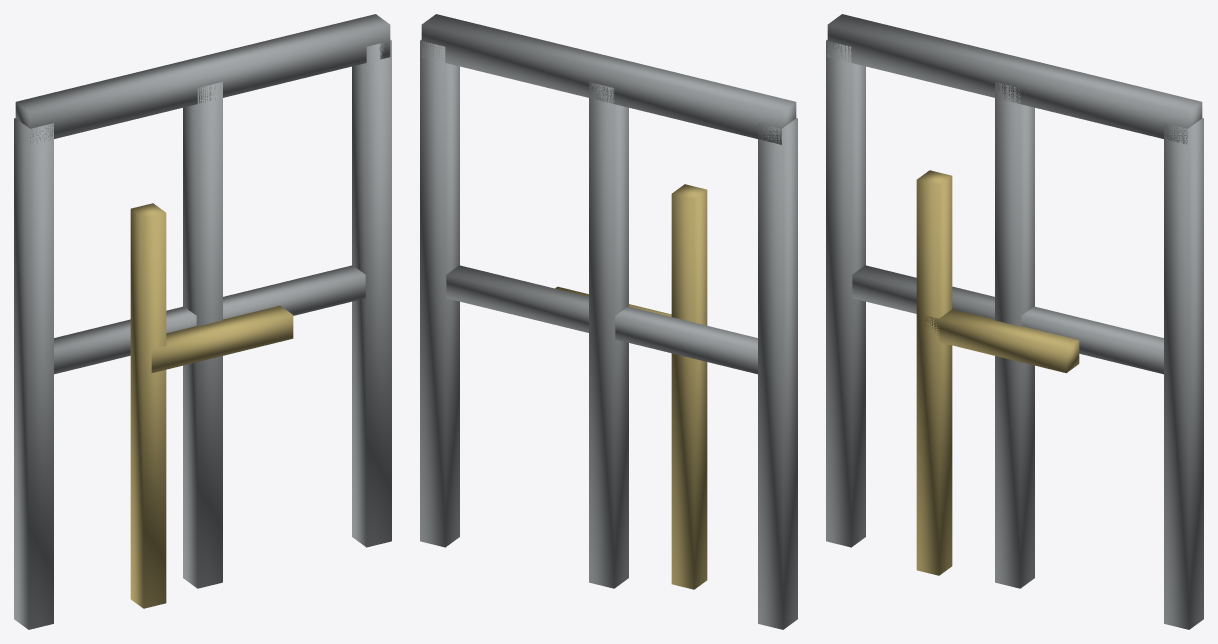
The model's file is residential_gate_l60_h85.glb.
The picture shows the model from 3 angles, left to right: view 1: azimuth 30°, elevation 25°; view 2: azimuth 150°, elevation 25°; view 3: azimuth 330°, elevation 25°; orthographic projection.
Visible parts, largest first — view 1: world; view 2: world; view 3: world.
Part boxes in pixels (bbox=[...]): world: bbox=[14, 14, 391, 629]; world: bbox=[420, 14, 797, 629]; world: bbox=[826, 14, 1203, 629].
Size of the model in its own units: 0.645 by 0.8775 by 0.0825.
